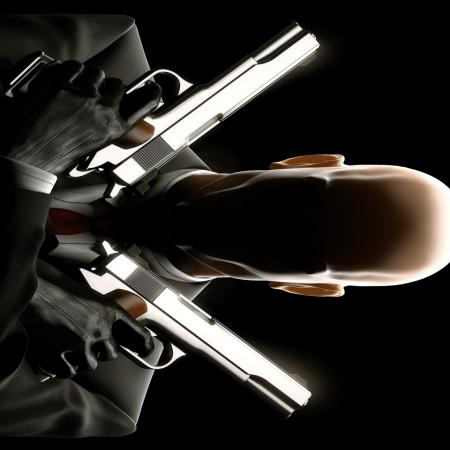Pistol: (11, 12, 324, 204), (42, 238, 316, 426)
